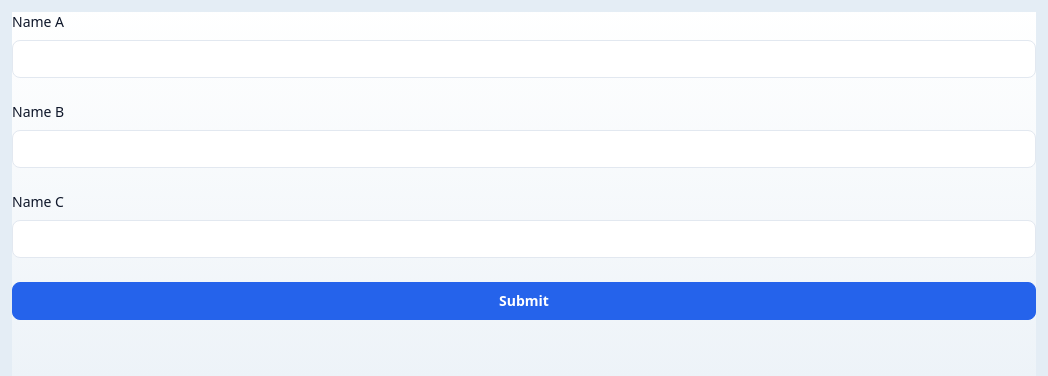
Test: Runtime validation when condition › follows visibility semantics for absent reference: isFalsy true, isTruthy false, others no match
Click the button "Submit".
click(524, 301)  # box [12, 282, 1036, 320]
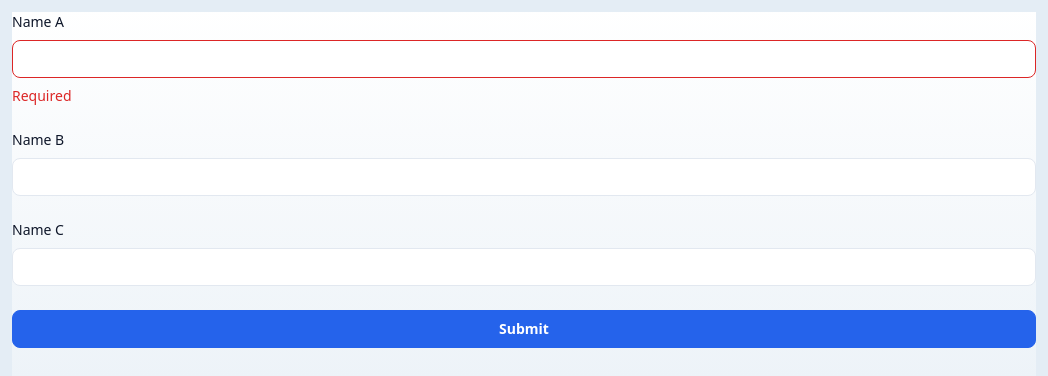
Expected: the field labelled "Name A Required" is shown, [12, 40, 1036, 78]
Now the text "Required" is shown once, box [12, 86, 72, 105]
